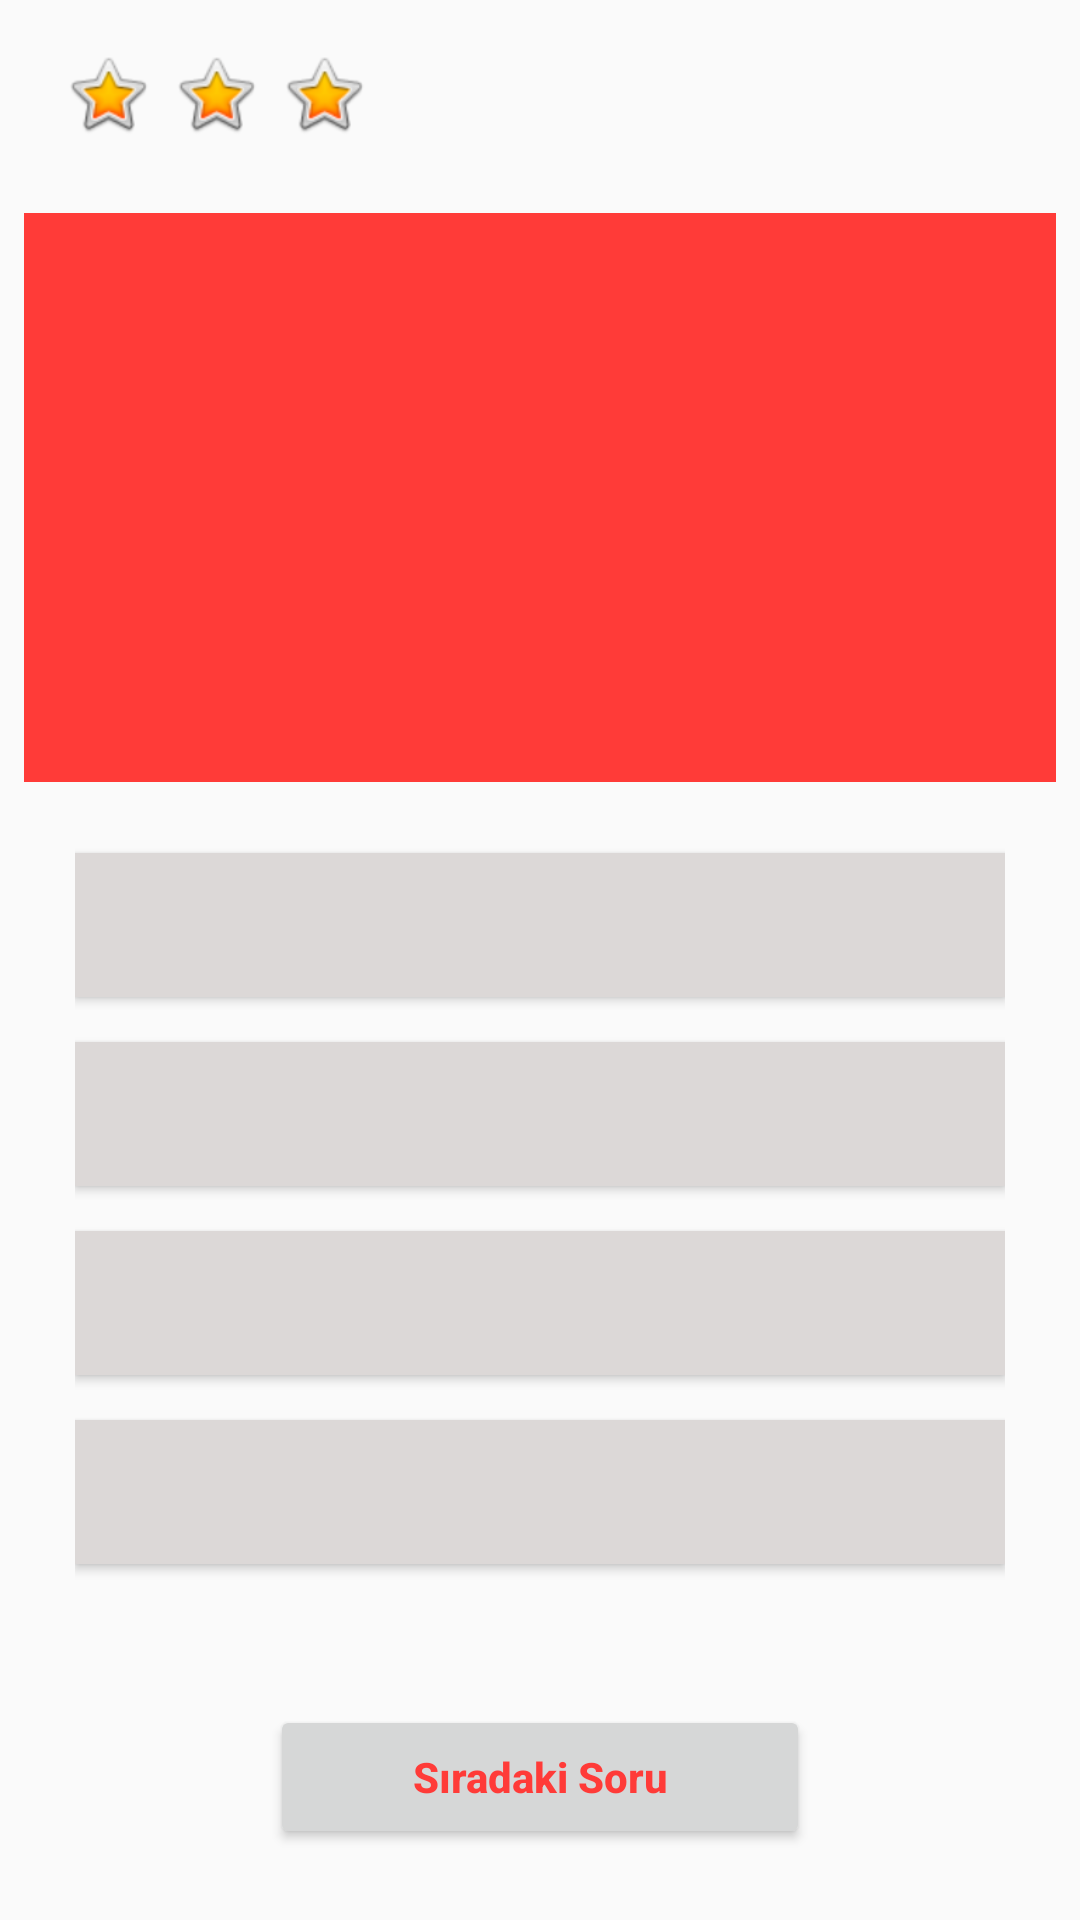

Named icons in this screenshot (1080 × 1920) and their bounding boxes, (x1, y1, x2, y2):
star on: (71, 58, 146, 131), (179, 58, 254, 131), (287, 58, 362, 131)
